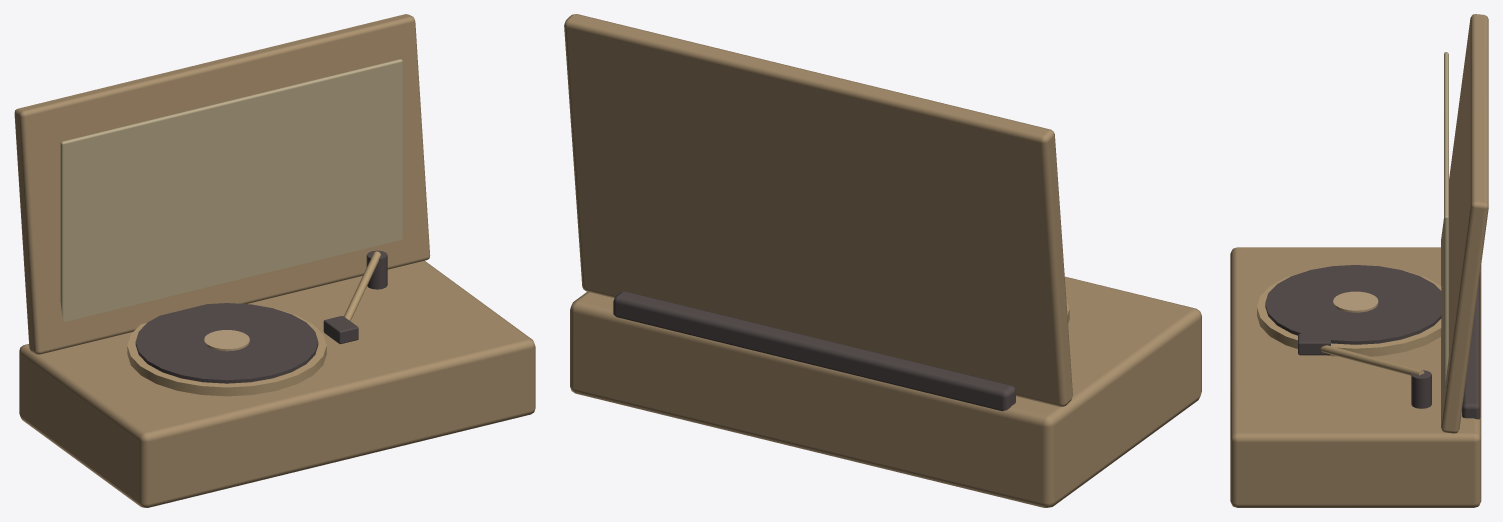
Rendered from recordplayer.glb.
3 renders of one model, left to right at view 1: azimuth 30°, elevation 25°; view 2: azimuth 150°, elevation 25°; view 3: azimuth 270°, elevation 25°, orthographic. The views are drawn at different scales.
Parts seen in each view (by area): view 1: turntable-case, lid-inset, open-dust-lid, vinyl-record, receiving-platter, record-label, pickup-head, tonearm, tonearm-pivot; view 2: open-dust-lid, turntable-case, lid-hinge; view 3: turntable-case, open-dust-lid, vinyl-record, receiving-platter, lid-inset, lid-hinge, tonearm, record-label, tonearm-pivot, pickup-head.
Boxes of the visible parts, x1=… form: turntable-case: x1=19, y1=260, x2=535, y2=507; lid-inset: x1=60, y1=59, x2=402, y2=321; open-dust-lid: x1=14, y1=14, x2=430, y2=354; vinyl-record: x1=135, y1=303, x2=318, y2=383; receiving-platter: x1=127, y1=308, x2=326, y2=396; record-label: x1=204, y1=330, x2=249, y2=351; pickup-head: x1=323, y1=316, x2=358, y2=344; tonearm: x1=344, y1=251, x2=380, y2=320; tonearm-pivot: x1=366, y1=250, x2=387, y2=289; open-dust-lid: x1=564, y1=14, x2=1072, y2=406; turntable-case: x1=570, y1=276, x2=1201, y2=507; lid-hinge: x1=613, y1=291, x2=1015, y2=411; turntable-case: x1=1230, y1=247, x2=1481, y2=507; open-dust-lid: x1=1441, y1=14, x2=1488, y2=433; vinyl-record: x1=1265, y1=265, x2=1441, y2=344; receiving-platter: x1=1257, y1=270, x2=1441, y2=356; lid-inset: x1=1444, y1=52, x2=1448, y2=391; lid-hinge: x1=1462, y1=273, x2=1480, y2=419; tonearm: x1=1320, y1=345, x2=1424, y2=375; record-label: x1=1333, y1=291, x2=1378, y2=312; tonearm-pivot: x1=1411, y1=370, x2=1431, y2=408; pickup-head: x1=1298, y1=333, x2=1330, y2=355.
Size of the model in its own units: 1.1 by 0.8235 by 0.628.
